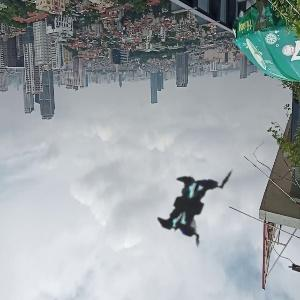drone: (113, 126, 278, 291)
